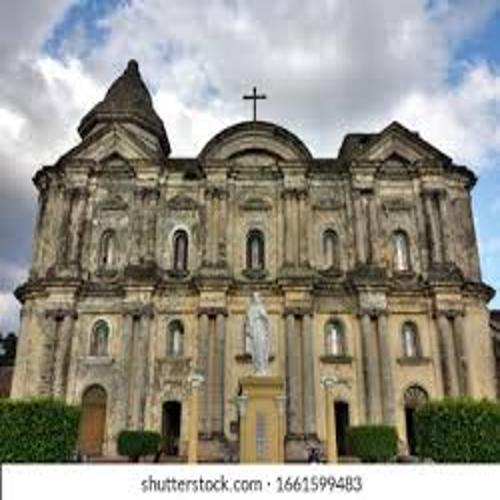Taal Basilica Church: (19, 58, 500, 455)
